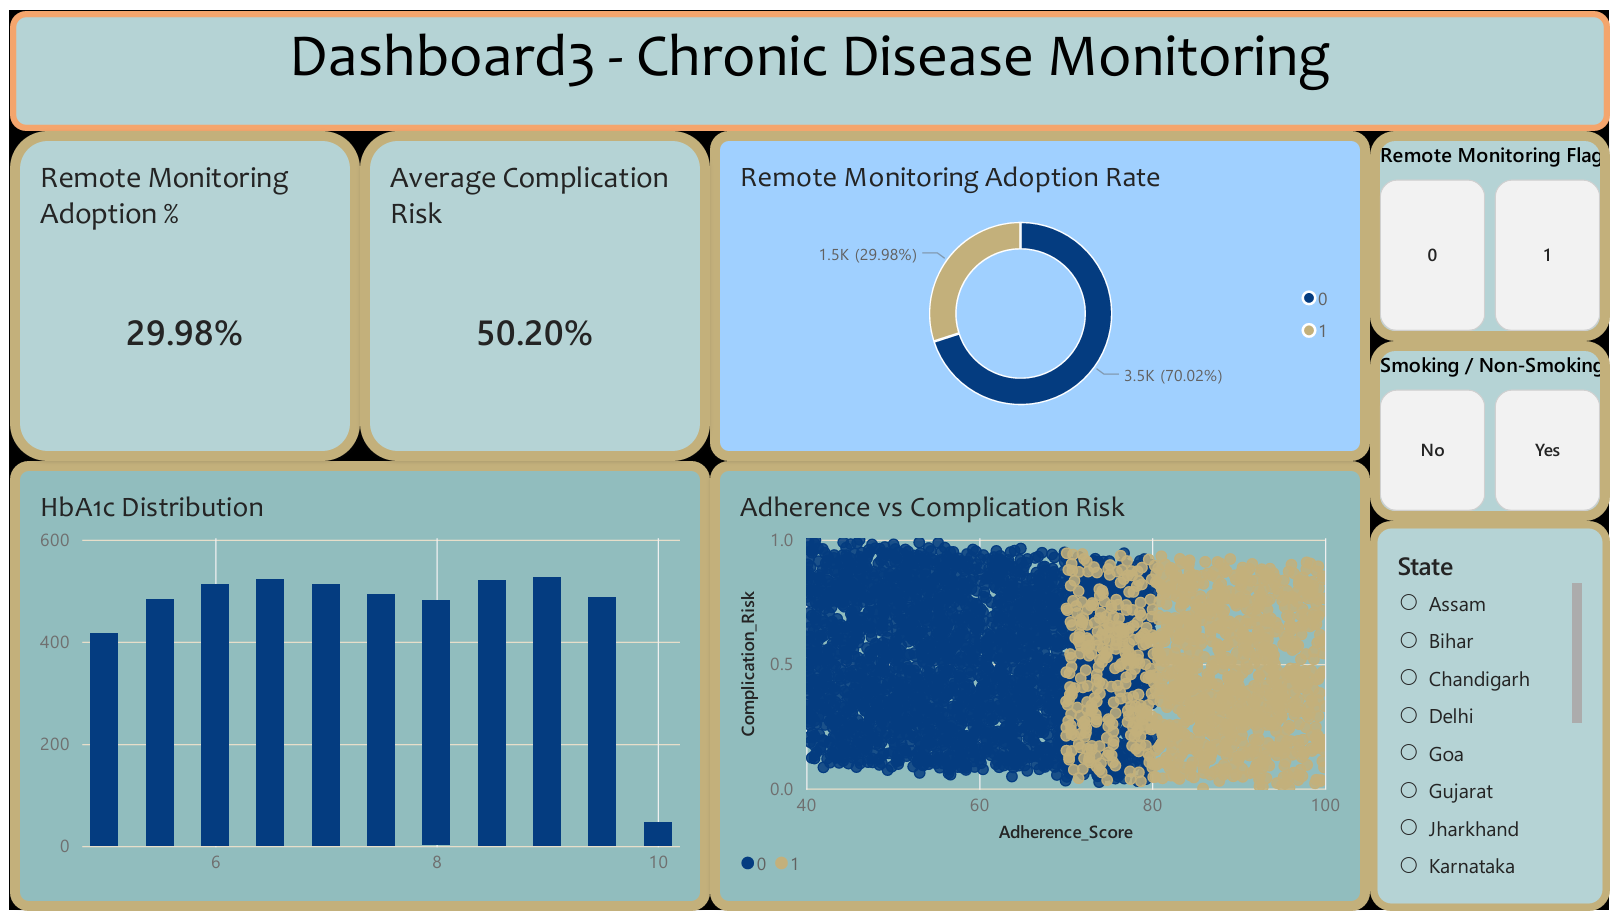

Layout of this report page (visuals, bound fields, positions):
{"tool":"powerbi","page":{"name":"Dashboard3 - Chronic Disease Monitoring","canvas":[1280,720],"ordinal":2},"visuals":[{"type":"clusteredColumnChart","title":"HbA1c Distribution","fields":{"Y":["CountNonNull(Risk_Stratification.Patient_ID)"],"Category":["Chronic_Disease.HbA1c (bins)"]},"box":[0,360,560,360],"z":0},{"type":"scatterChart","title":"Adherence vs Complication Risk","fields":{"X":["Chronic_Disease.Adherence_Score"],"Y":["Chronic_Disease.Complication_Risk"],"Series":["Chronic_Disease.Remote_Monitoring_Flag"]},"box":[560,360,528,360],"z":1000},{"type":"donutChart","title":"Remote Monitoring Adoption Rate","fields":{"Y":["CountNonNull(Risk_Stratification.Patient_ID)"],"Category":["Chronic_Disease.Remote_Monitoring_Flag"]},"box":[560,96,528,264],"z":2000},{"type":"textbox","box":[0,0,1280,96],"z":3000},{"type":"card","title":"Remote Monitoring Adoption %","fields":{"Values":["Chronic_Disease.Remote_Monitoring_Adoption_Pct"]},"box":[0,96,280,264],"z":4000},{"type":"card","title":"Average Complication Risk","fields":{"Values":["Chronic_Disease.Avg_Complication_Risk"]},"box":[280,96,280,264],"z":5000},{"type":"listSlicer","fields":{"Values":["Region_Lookup.State"]},"box":[1088,408,192,312],"z":6000},{"type":"advancedSlicerVisual","title":"Remote Monitoring Flag","fields":{"Values":["Chronic_Disease.Remote_Monitoring_Flag"]},"box":[1088,96,192,168],"z":7000},{"type":"advancedSlicerVisual","title":"Smoking / Non-Smoking","fields":{"Values":["Risk_Stratification.Smoking_Status"]},"box":[1088,264,192,144],"z":8000}]}

Visuals, with their boxes in screenshot pixels (x1, y1, x2, y2), scaled from the page's 1280x720 canvas onto the 1616x921 screenshot:
"HbA1c Distribution" clusteredColumnChart: detection(0, 460, 707, 920)
"Adherence vs Complication Risk" scatterChart: detection(707, 460, 1374, 920)
"Remote Monitoring Adoption Rate" donutChart: detection(707, 123, 1374, 460)
textbox: detection(0, 0, 1615, 123)
"Remote Monitoring Adoption %" card: detection(0, 123, 354, 460)
"Average Complication Risk" card: detection(354, 123, 707, 460)
listSlicer - Region_Lookup.State: detection(1374, 522, 1615, 920)
"Remote Monitoring Flag" advancedSlicerVisual: detection(1374, 123, 1615, 338)
"Smoking / Non-Smoking" advancedSlicerVisual: detection(1374, 338, 1615, 522)
